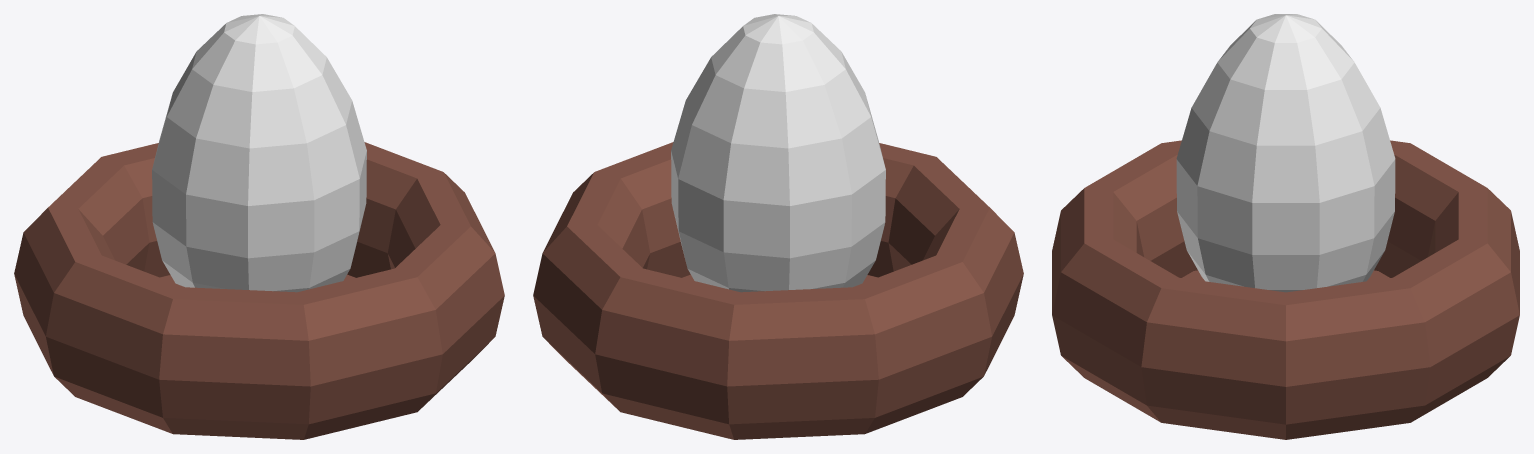
The model's file is SoldierEgg.fbx.
3 views of the same model, side by side, from view 1: azimuth 30°, elevation 25°; view 2: azimuth 150°, elevation 25°; view 3: azimuth 270°, elevation 25° (orthographic).
Parts seen in each view (by area): view 1: Cube; view 2: Cube; view 3: Cube.
Part boxes in pixels (x1=…): Cube: x1=14, y1=14, x2=504, y2=439; Cube: x1=533, y1=14, x2=1023, y2=439; Cube: x1=1052, y1=14, x2=1519, y2=439.
Size of the model in its own units: 48.32 by 36.32 by 45.96.
1 material, 1 textured.
